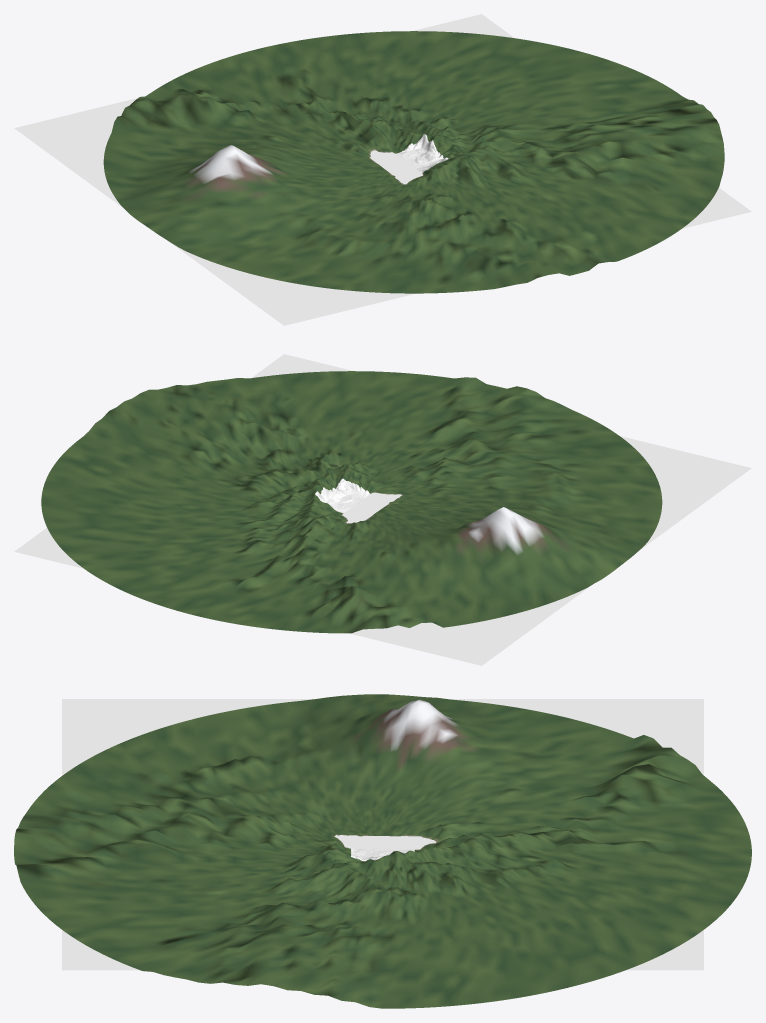
Rendered from map.glb.
The picture shows the model from 3 angles, top to bottom: view 1: azimuth 30°, elevation 25°; view 2: azimuth 150°, elevation 25°; view 3: azimuth 270°, elevation 25°; orthographic projection. The views are drawn at different scales.
Parts seen in each view (by area): view 1: Far_3, Far_1, Far_0, Far_2, Far_5, Far_7, Far_6, Far_4, Lake; view 2: Far_4, Far_0, Far_6, Far_5, Far_2, Far_7, Far_1, Far_3, Lake; view 3: Far_7, Far_6, Far_1, Far_5, Far_2, Far_3, Far_4, Far_0, Lake.
Boxes of the visible parts, box(x1,y1,x2,y2) form: Far_3: box(145, 169, 400, 288); Far_1: box(428, 157, 713, 275); Far_0: box(437, 97, 724, 196); Far_2: box(334, 168, 568, 293); Far_5: box(114, 48, 400, 157); Far_7: box(426, 35, 682, 150); Far_6: box(259, 31, 493, 151); Far_4: box(103, 122, 384, 225); Lake: box(14, 14, 751, 325); Far_4: box(365, 507, 620, 627); Far_0: box(83, 375, 341, 490); Far_6: box(52, 494, 337, 615); Far_5: box(197, 512, 427, 633); Far_2: box(365, 386, 651, 496); Far_7: box(41, 437, 326, 536); Far_1: box(272, 371, 506, 489); Far_3: box(381, 468, 662, 565); Lake: box(14, 354, 751, 665); Far_7: box(383, 850, 643, 1008); Far_6: box(415, 838, 751, 962); Far_1: box(14, 843, 350, 962); Far_5: box(414, 735, 751, 852); Far_2: box(14, 742, 350, 852); Far_3: box(122, 694, 382, 836); Far_4: box(383, 694, 643, 836); Far_0: box(122, 857, 382, 1008); Lake: box(62, 699, 703, 970).
Size of the model in its own units: 34483 by 2882 by 34483.
